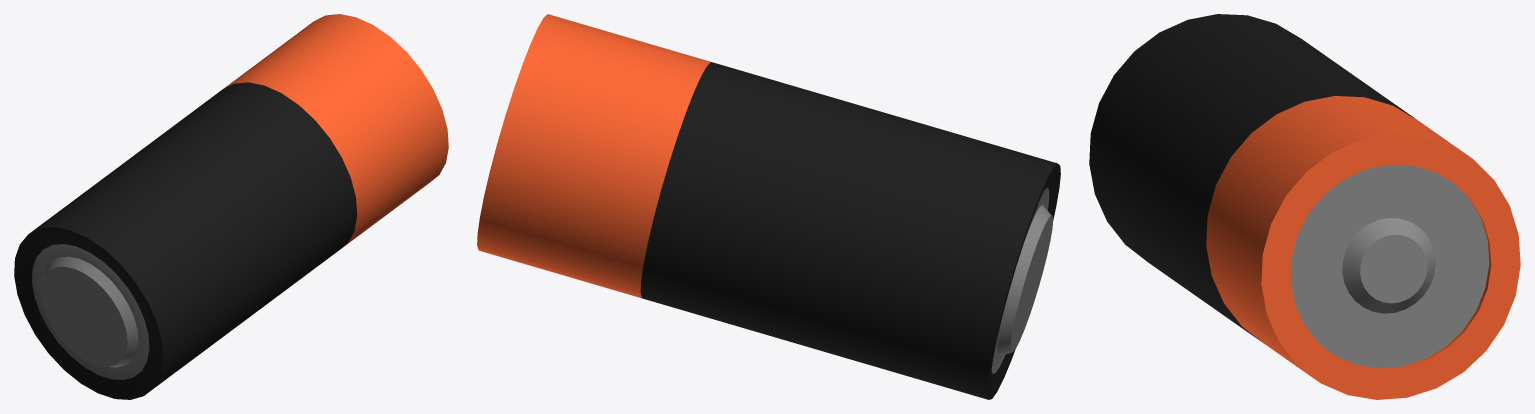
Rendered from DroneRacingCurrencyBattery.fbx.
The picture shows the model from 3 angles, left to right: view 1: azimuth 30°, elevation 25°; view 2: azimuth 150°, elevation 25°; view 3: azimuth 270°, elevation 25°; orthographic projection. The views are drawn at different scales.
Parts seen in each view (by area): view 1: Battery; view 2: Battery; view 3: Battery.
Boxes of the visible parts, x1,y1,x2,y2 form: Battery: (14, 14, 448, 399); Battery: (477, 14, 1060, 399); Battery: (1089, 14, 1520, 399).
Bounding box in the file's own units: 178 × 107 × 119.
